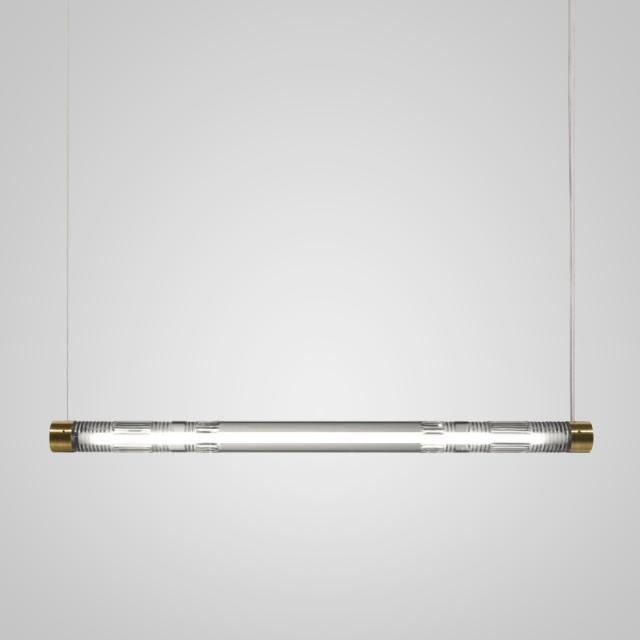tubelight_on: (51, 416, 598, 460)
